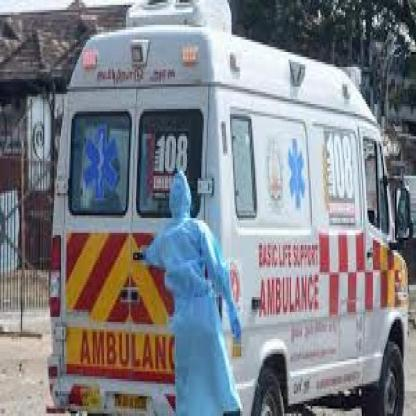priority: (49, 0, 407, 416)
